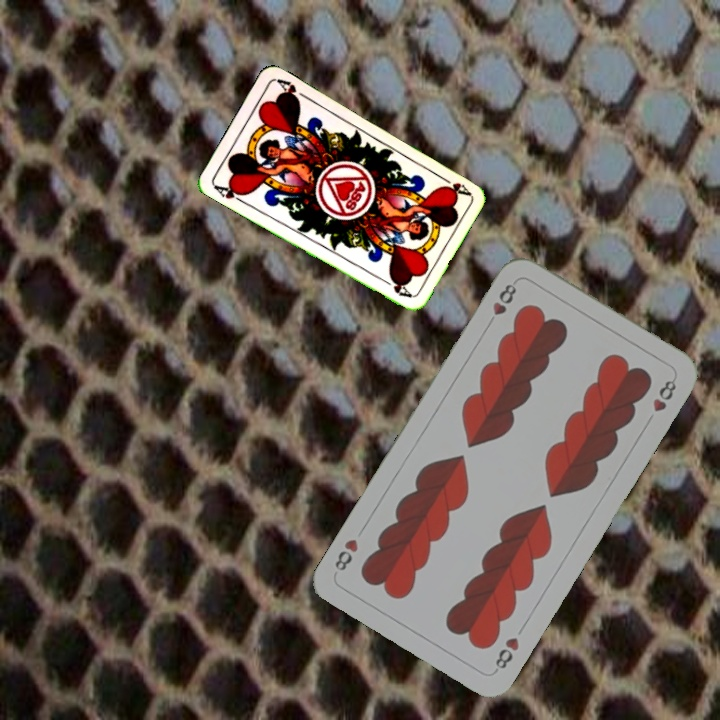H8: (490, 633, 522, 675), (488, 280, 520, 318)
HA: (210, 180, 249, 207), (435, 171, 472, 198)
